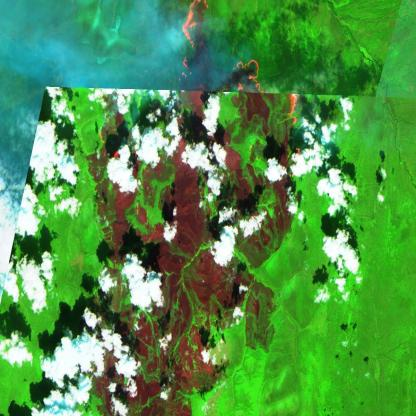fire: (174, 0, 210, 86), (96, 115, 123, 167), (237, 54, 263, 96), (291, 145, 301, 210), (288, 87, 302, 130)
